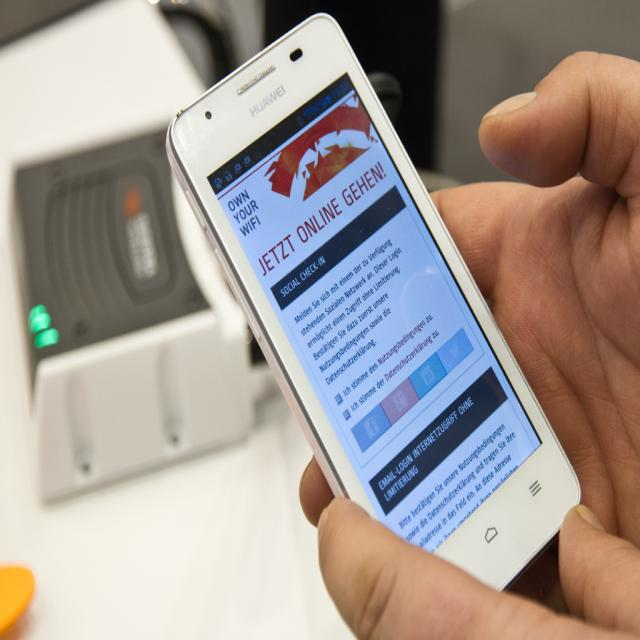Mobile-phone: (163, 11, 580, 592)
